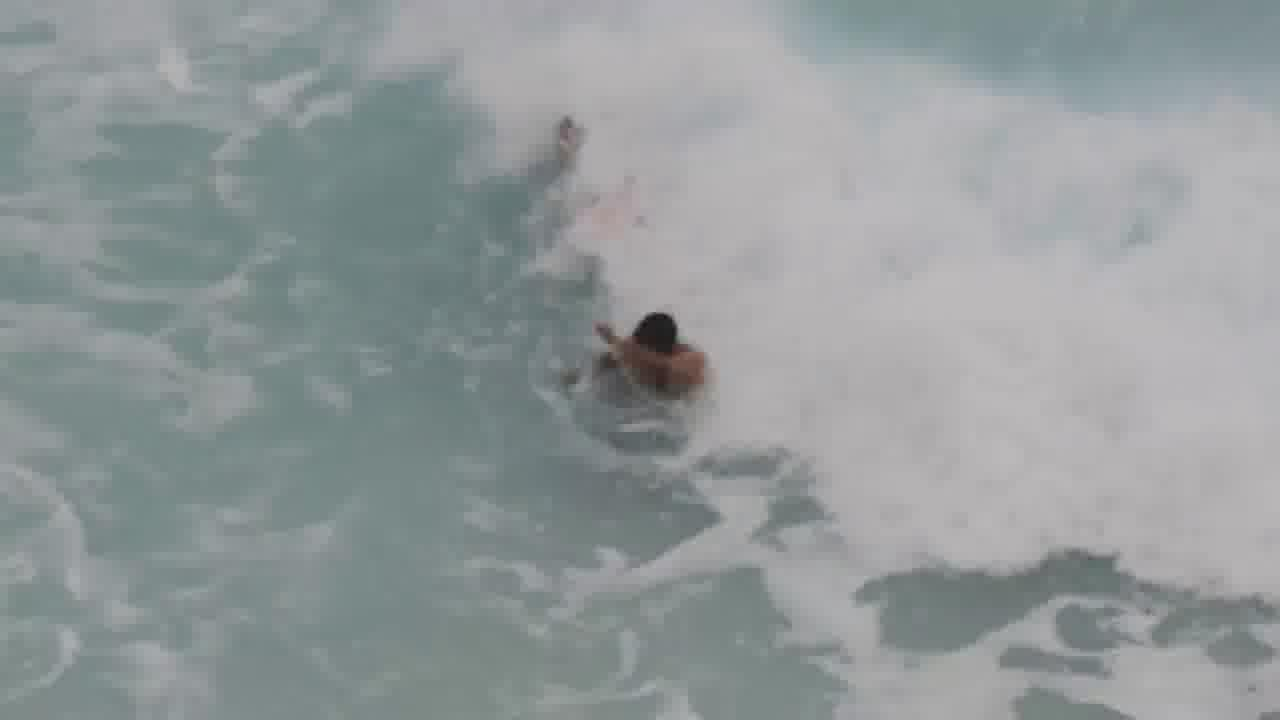human: (571, 306, 716, 403)
